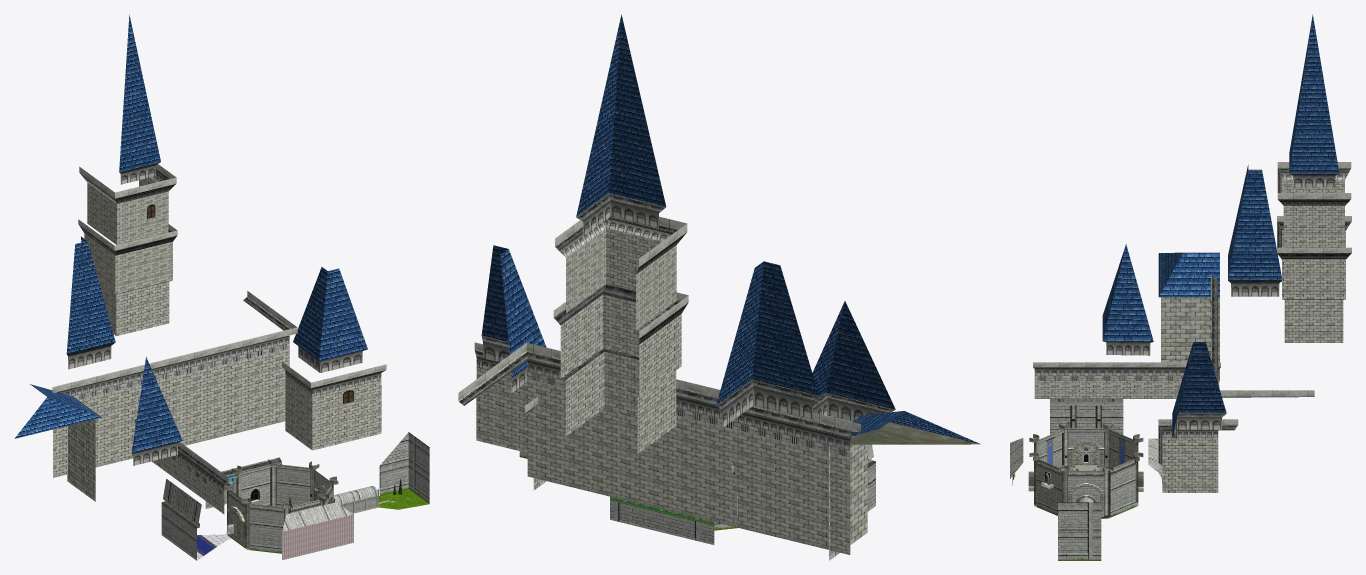
Rendered from hairal_nakaniwa.dae.
The picture shows the model from 3 angles, left to right: view 1: azimuth 30°, elevation 25°; view 2: azimuth 150°, elevation 25°; view 3: azimuth 270°, elevation 25°; orthographic projection. The views are drawn at different scales.
Parts seen in each view (by area): view 1: node-03718D74, node-00D3BA62, node-02FDF917, node-02969E11, node-038431B5, node-024111C1, node-02E81EDC, node-022915BE, node-03F060FD; view 2: node-03718D74, node-00D3BA62, node-02FDF917, node-02969E11, node-024111C1; view 3: node-03718D74, node-00D3BA62, node-02FDF917, node-02969E11, node-024111C1, node-02E81EDC, node-02EDC1D5.
Boxes of the visible parts, <box> form: node-03718D74: <box>53,177,381,514</box>; node-00D3BA62: <box>14,14,367,452</box>; node-02FDF917: <box>52,162,386,496</box>; node-02969E11: <box>161,432,429,560</box>; node-038431B5: <box>282,514,353,560</box>; node-024111C1: <box>224,458,338,548</box>; node-02E81EDC: <box>162,464,333,547</box>; node-022915BE: <box>378,489,429,509</box>; node-03F060FD: <box>163,534,230,560</box>; node-03718D74: <box>476,228,867,560</box>; node-00D3BA62: <box>481,14,980,444</box>; node-02FDF917: <box>458,193,895,492</box>; node-02969E11: <box>519,444,875,544</box>; node-024111C1: <box>823,422,979,444</box>; node-03718D74: <box>1034,180,1345,492</box>; node-00D3BA62: <box>1102,14,1339,436</box>; node-02FDF917: <box>1033,162,1351,464</box>; node-02969E11: <box>1010,399,1162,560</box>; node-024111C1: <box>1012,405,1143,518</box>; node-02E81EDC: <box>1028,401,1143,518</box>; node-02EDC1D5: <box>1073,442,1099,464</box>.
Size of the model in its own units: 4105 by 4715 by 3162.
